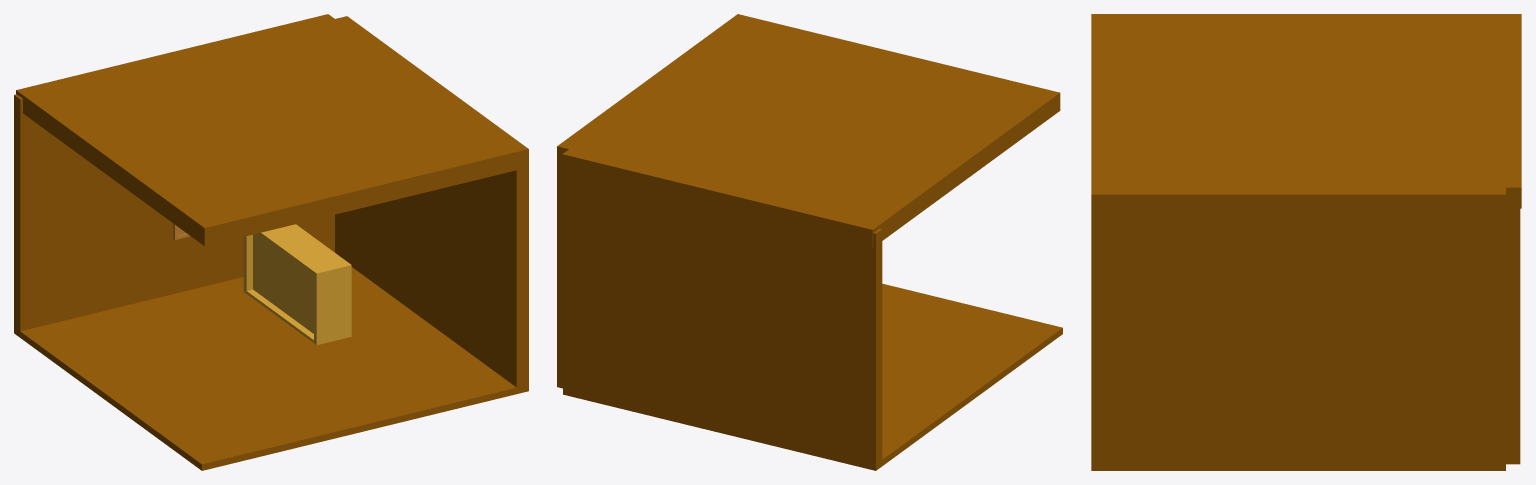
The model's file is saloon.dae.
3 views of the same model, side by side, from view 1: azimuth 30°, elevation 25°; view 2: azimuth 150°, elevation 25°; view 3: azimuth 270°, elevation 25° (orthographic). The views are drawn at different scales.
Visible parts, largest first — view 1: Cube, Cube_001; view 2: Cube; view 3: Cube.
Boxes of the visible parts, box(x1,y1,x2,y2) form: Cube: box(14, 14, 528, 470); Cube_001: box(243, 224, 351, 344); Cube: box(557, 14, 1062, 470); Cube: box(1091, 14, 1521, 470).
Bounding box in the file's own units: 18.68 × 18.66 × 13.23.
